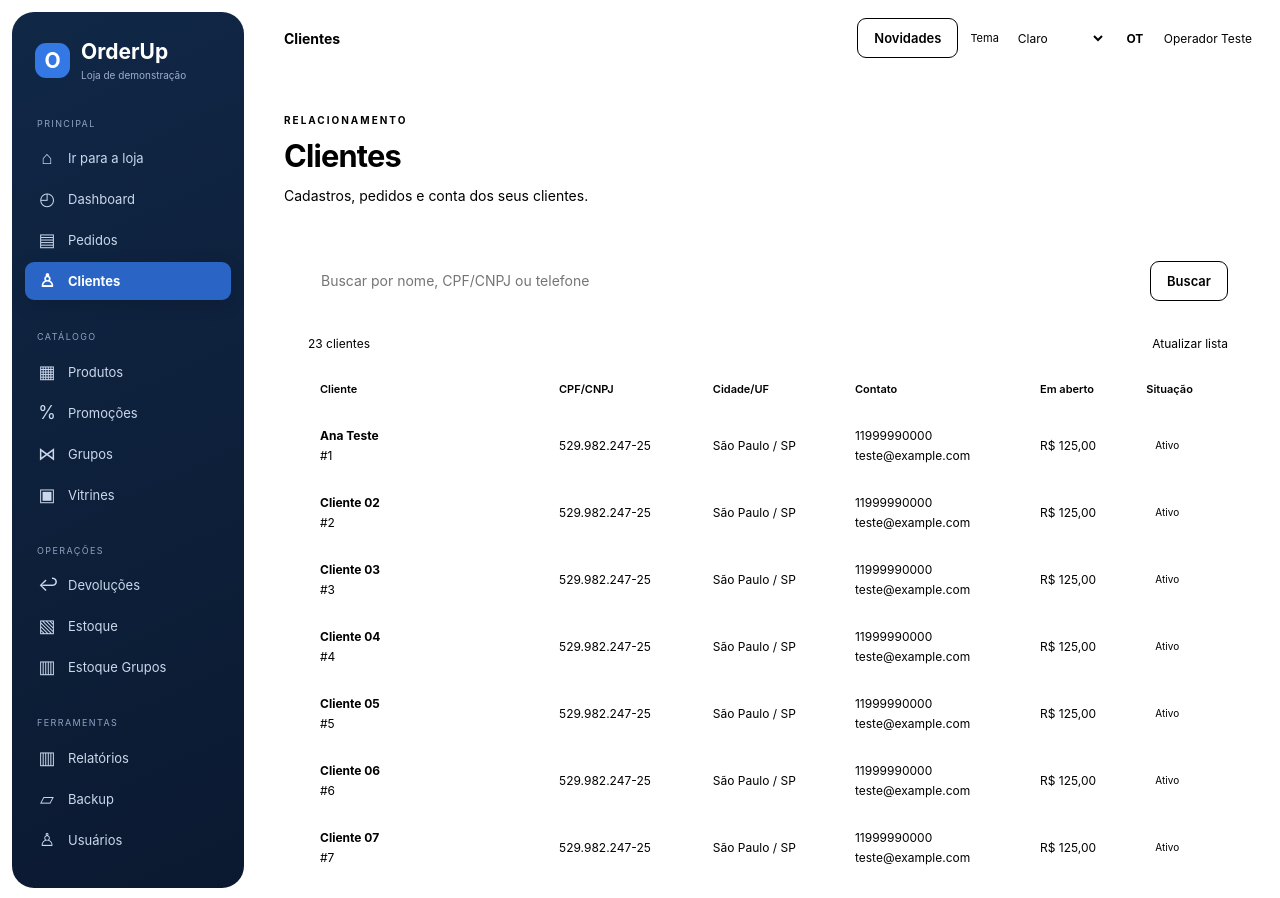
Test case: navegação e sessão › mantém o cabeçalho e os filtros ao trocar Clientes e Dashboard
Check: the button "Ana Teste" is shown, box [320,428,379,443]
Type "Ana" into the search field named "Buscar clientes" at [723, 281], box [308,261,1138,300]
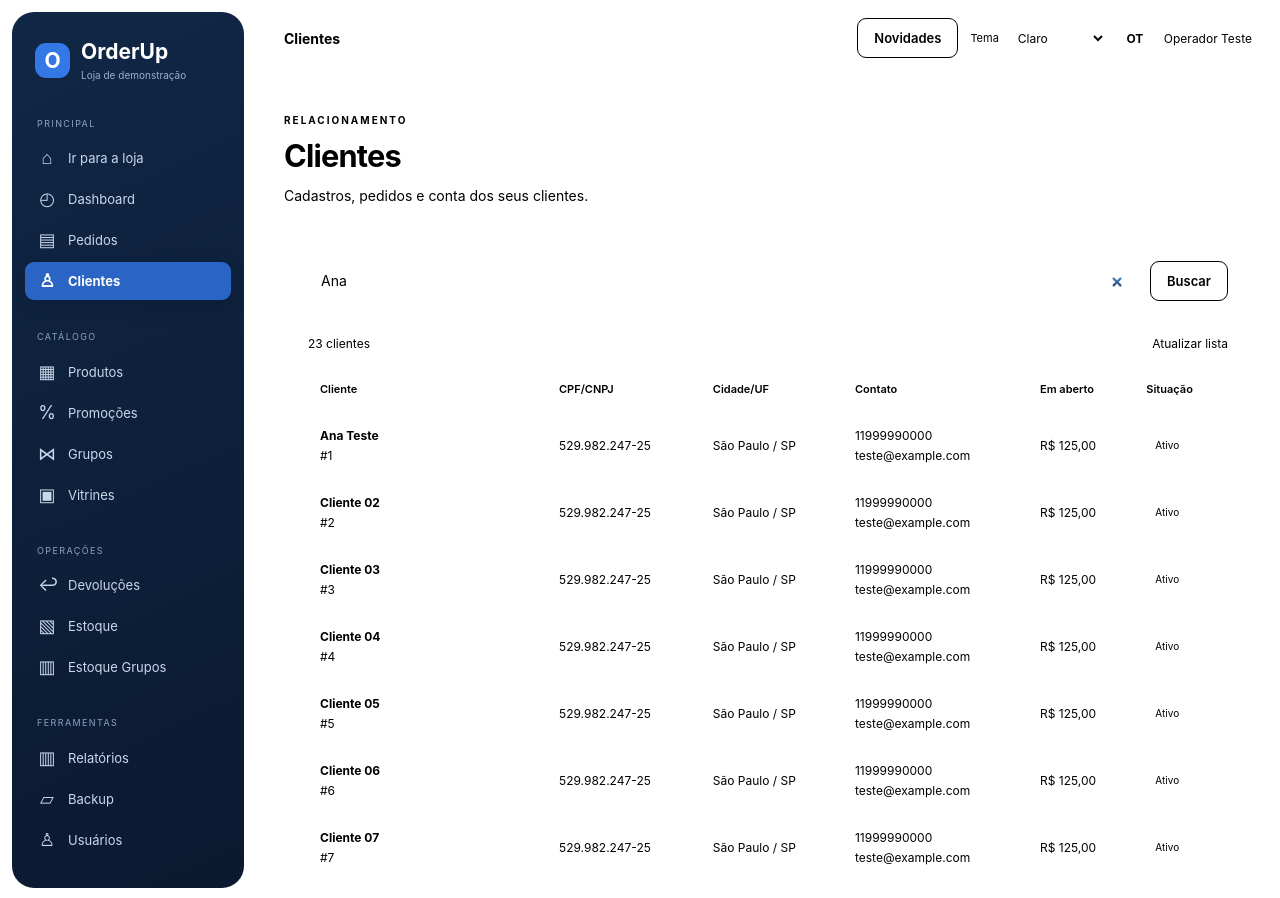
Click the button "Buscar" at [1189, 281], box [1150,261,1228,301]
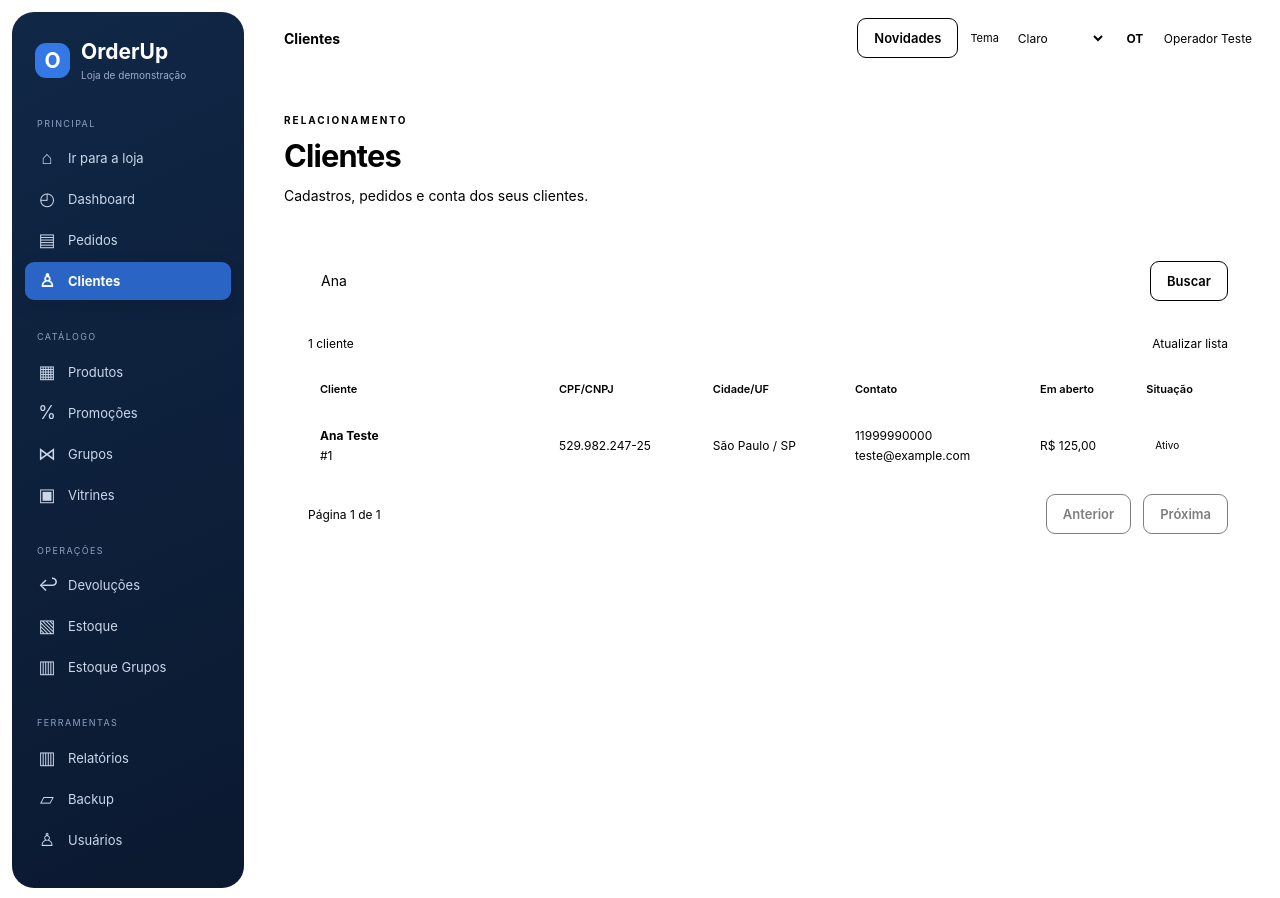
Check: the text "1 cliente" is shown, box [308,336,354,351]
Click the link "◴ Dashboard" at [87, 199], box [39,188,135,209]
(page scrolled)
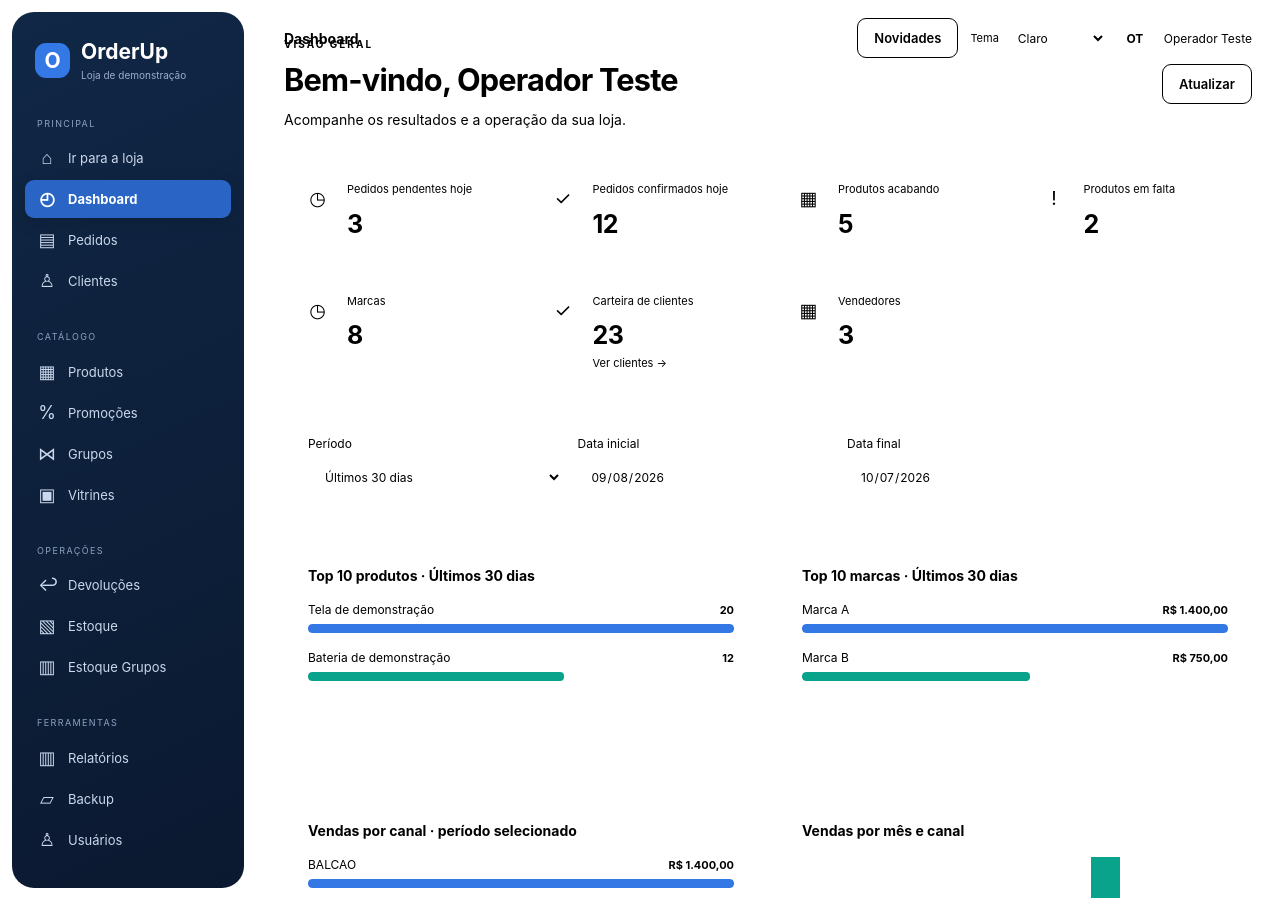
Check: the heading "Bem-vindo, Operador Teste" is shown, box [284,62,678,99]
Click the link "♙ Clientes" at [78, 281], box [39,270,118,291]
(page scrolled)
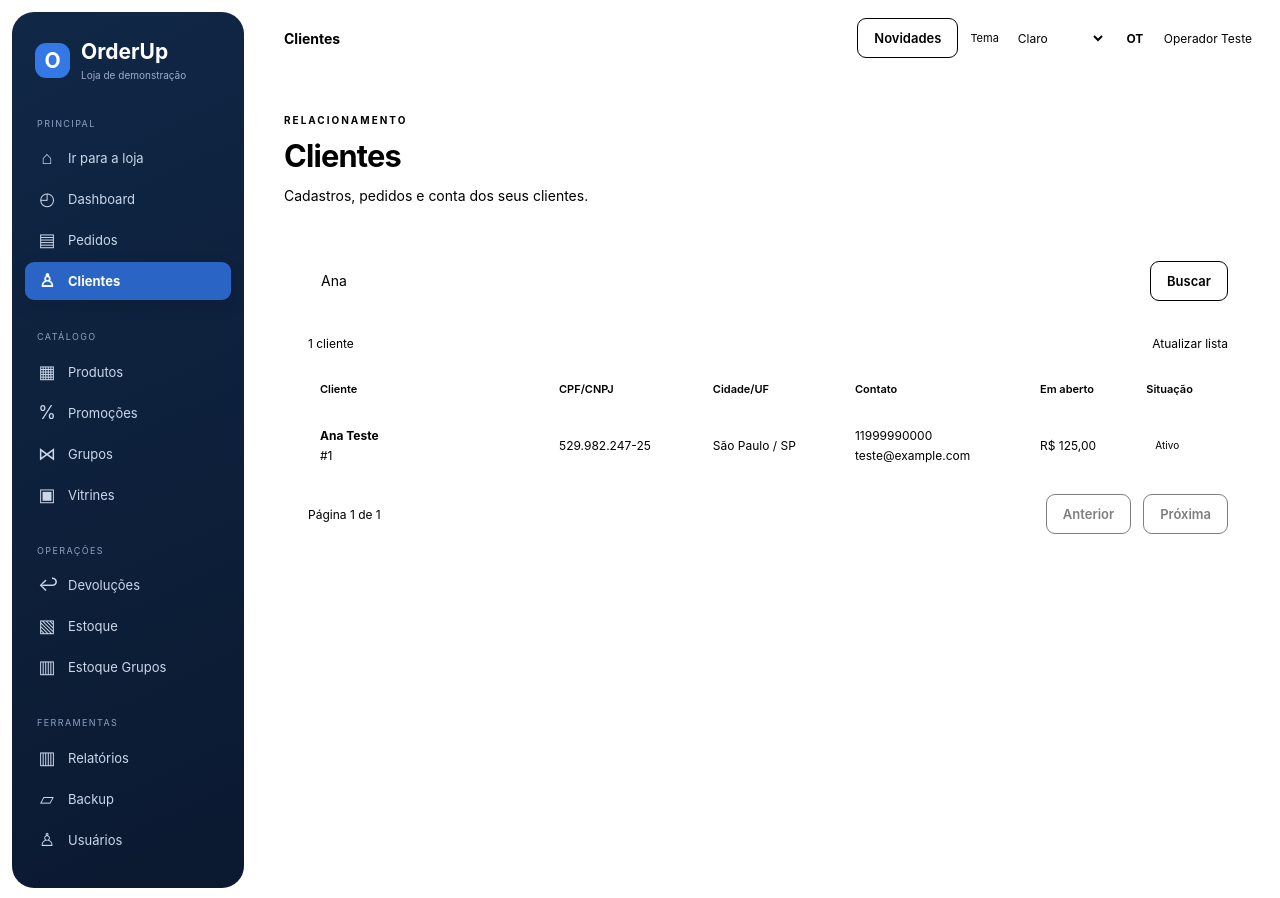
Check: the text "1 cliente" is shown, box [308,336,354,351]
Check: the search field holds "Ana", box [308,261,1138,300]
